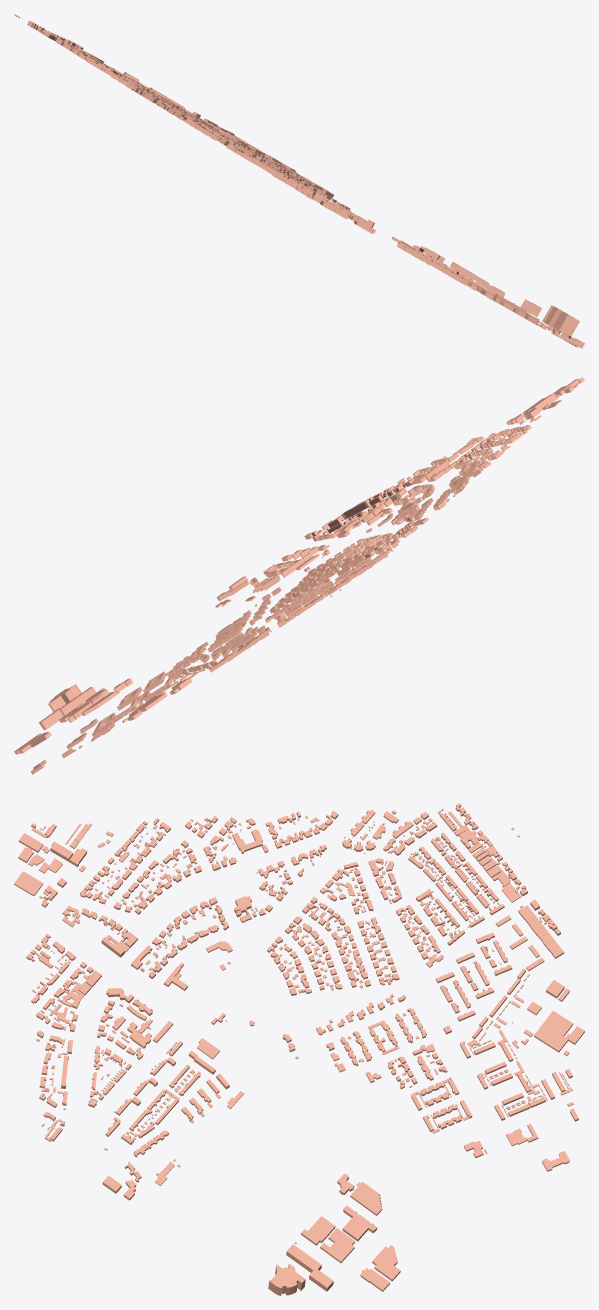
3 views of the same model, one above another, from view 1: azimuth 30°, elevation 25°; view 2: azimuth 150°, elevation 25°; view 3: azimuth 270°, elevation 25° (orthographic). The views are drawn at different scales.
Bounding box in the file's own units: 1024 × 758 × 1283.
